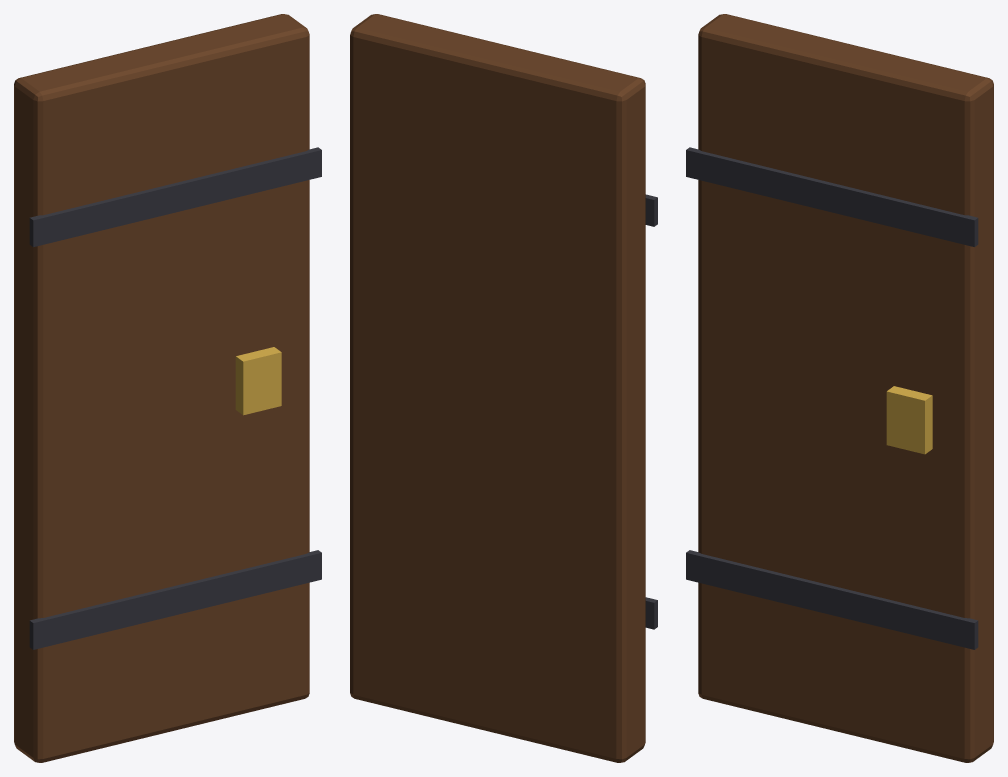
The model's file is prop_door_locked.glb.
The picture shows the model from 3 angles, left to right: view 1: azimuth 30°, elevation 25°; view 2: azimuth 150°, elevation 25°; view 3: azimuth 330°, elevation 25°; orthographic projection.
Parts seen in each view (by area): view 1: door, band, band.001, lock; view 2: door; view 3: door, band, band.001, lock.
Boxes of the visible parts, bbox=[...] form: door: bbox=[14, 14, 309, 762]; band: bbox=[29, 550, 321, 649]; band.001: bbox=[29, 147, 321, 246]; lock: bbox=[235, 347, 281, 415]; door: bbox=[350, 14, 645, 762]; door: bbox=[698, 14, 993, 762]; band: bbox=[686, 550, 978, 649]; band.001: bbox=[686, 147, 978, 246]; lock: bbox=[886, 386, 932, 454].
Size of the model in its own units: 0.9 by 2 by 0.18.
